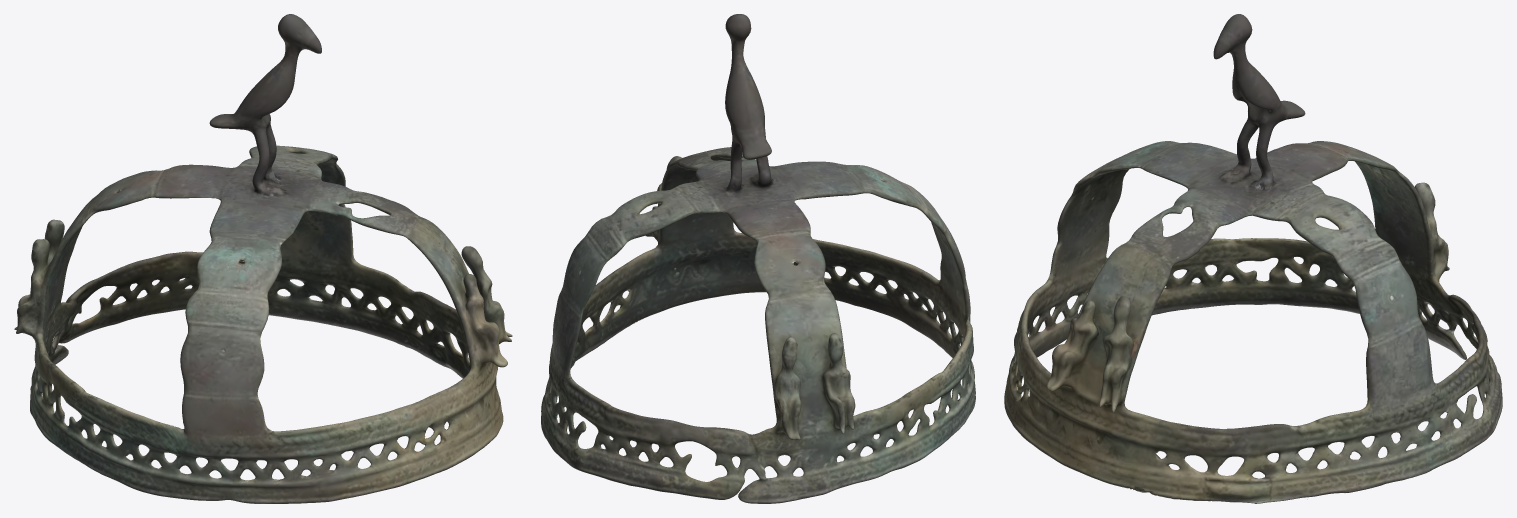
File: preview.glb
The picture shows the model from 3 angles, left to right: view 1: azimuth 30°, elevation 25°; view 2: azimuth 150°, elevation 25°; view 3: azimuth 270°, elevation 25°; orthographic projection. The views are drawn at different scales.
Parts seen in each view (by area): view 1: Object_2; view 2: Object_2; view 3: Object_2.
Part boxes in pixels (x1,y1,x2,y2): Object_2: (14, 14, 512, 503); Object_2: (541, 14, 975, 503); Object_2: (1004, 14, 1502, 503).
Bounding box in the file's own units: 22.19 × 21.79 × 24.34.
Materials: 1 (1 with a texture image).
